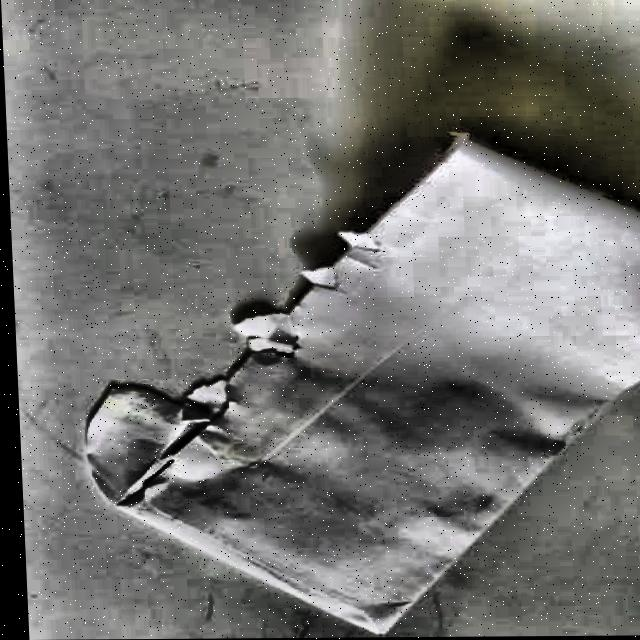paper: (69, 130, 640, 637)
